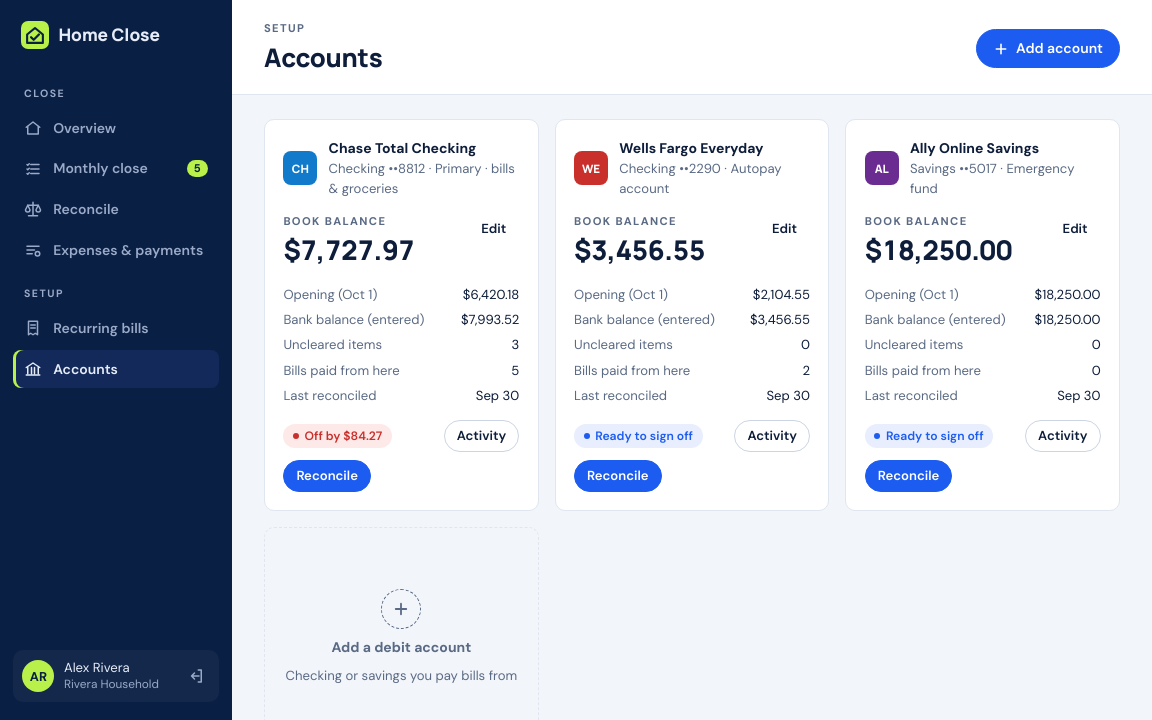
Test: accounts › adds a debit account
Click the link "Add account" at (1048, 49), box [976,29,1120,68]
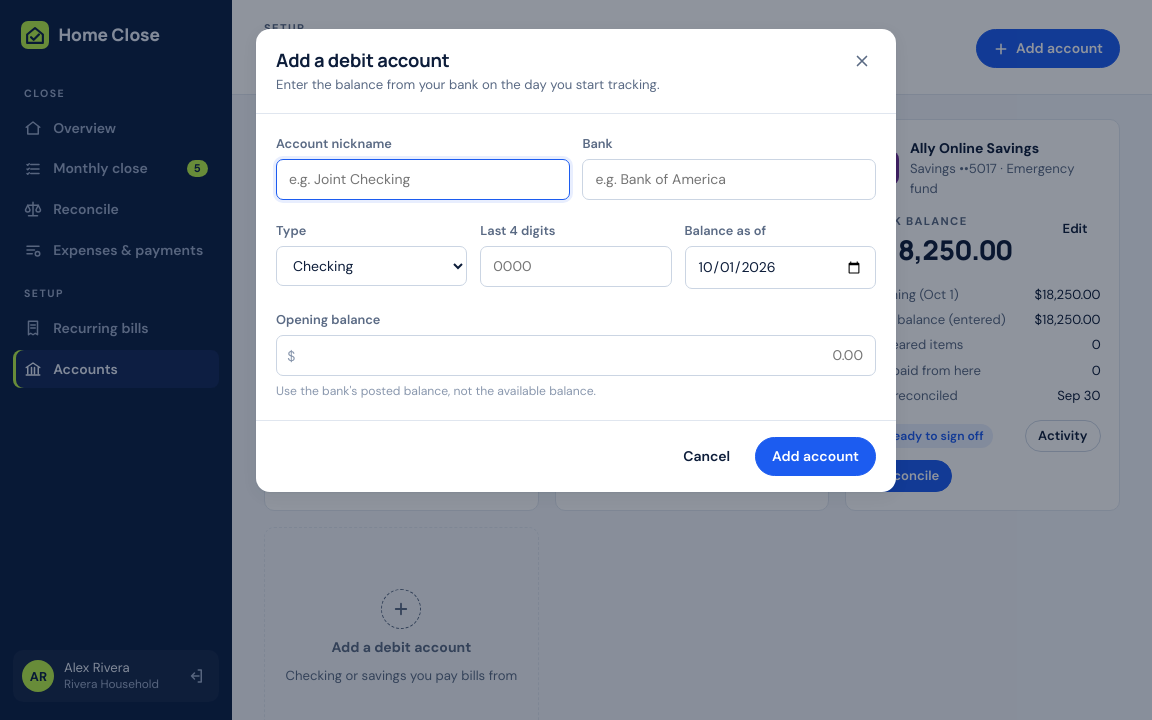
expect the date field labelled "Balance as of" holds "2026-10-01": met, box [684,246,876,289]
Type "Joint Checking" into the field labelled "Account nickname" at (423, 179), box [276,159,570,200]
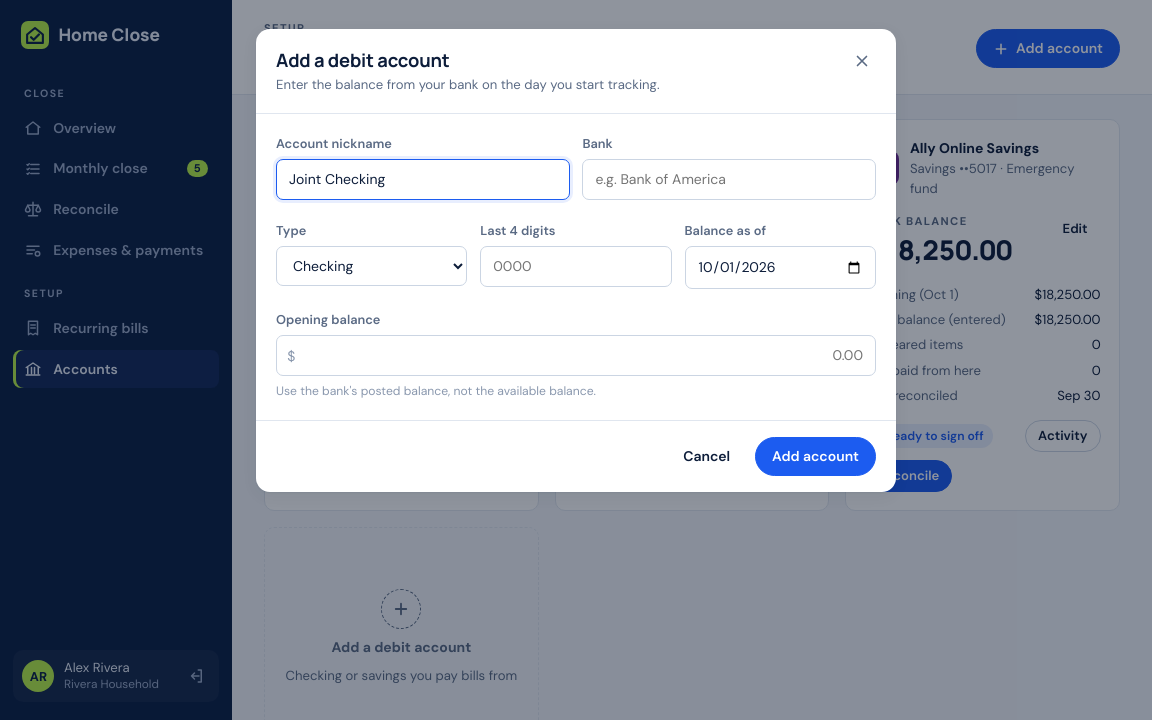
Type "Bank of America" into the field labelled "Bank" at (729, 179), box [582,159,876,200]
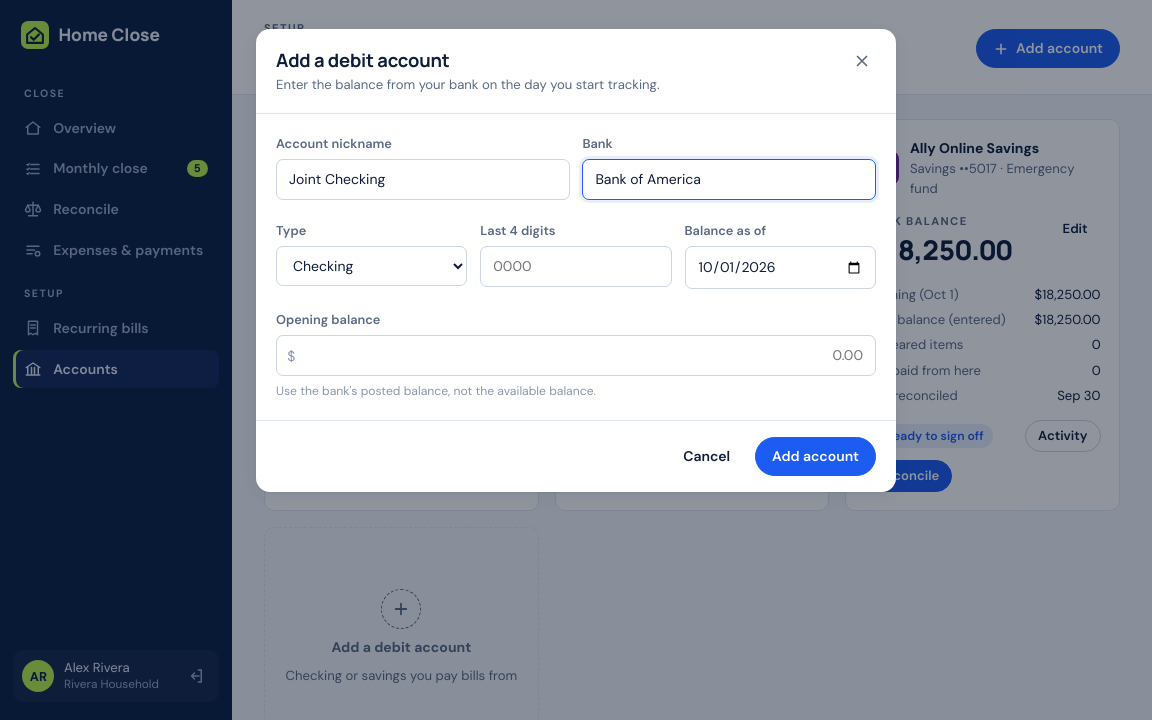
Type "4410" into the field labelled "Last 4 digits" at (576, 267), box [480,246,672,287]
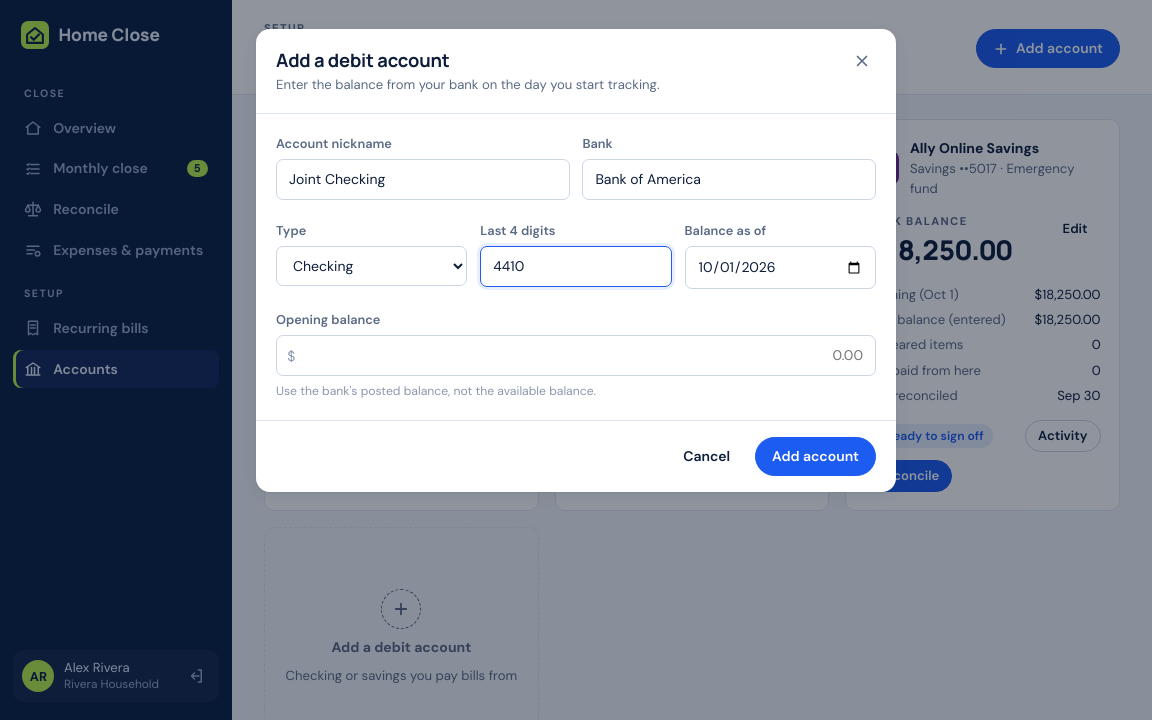
Type "1,250.00" into the field labelled "Opening balance" at (576, 356), box [276,335,876,376]
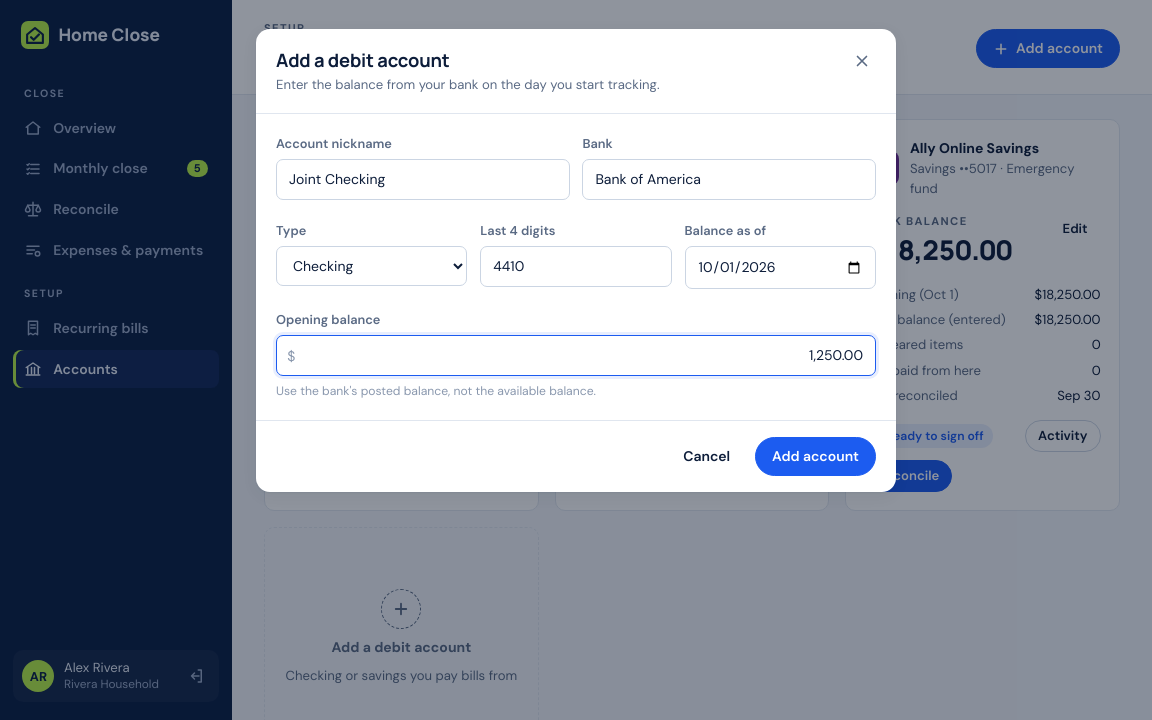
Click the button "Add account" at (816, 457), box [755,437,876,476]
(page scrolled)
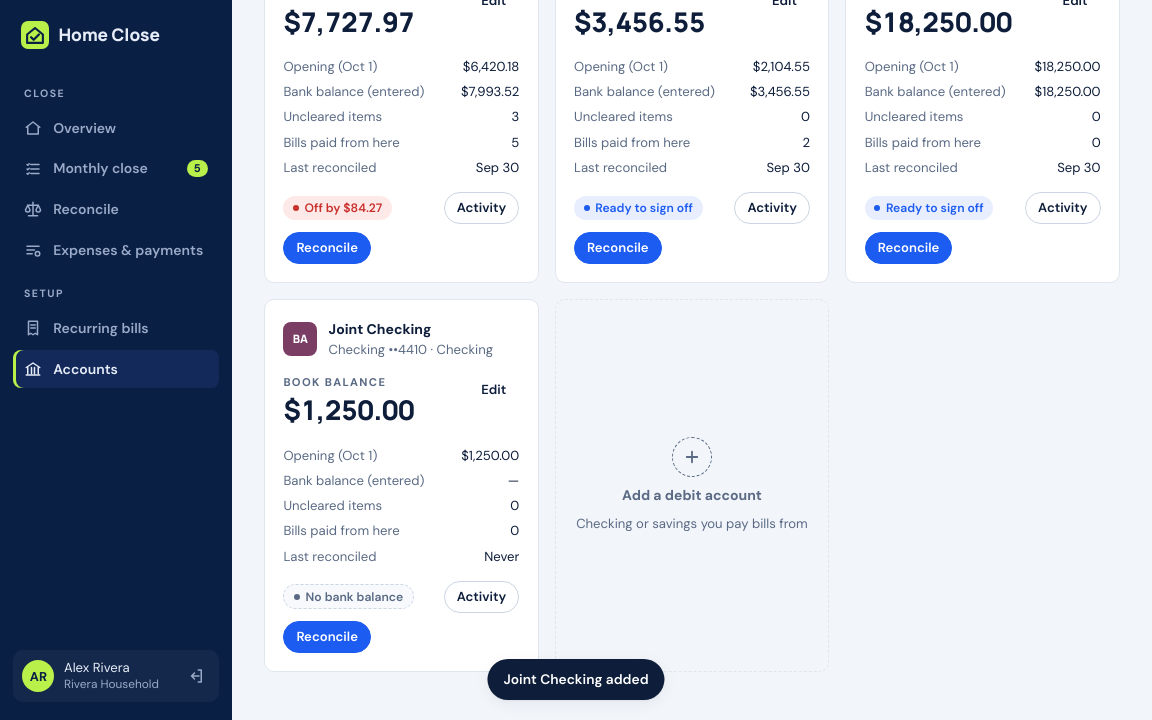
expect the text "Joint Checking added" is shown: met, box [488,659,665,700]
expect the element "Joint Checking" shows "Checking ••4410": met, box [264,299,539,672]
expect the element "Joint Checking" shows "$1,250.00": met, box [283,391,414,428]
